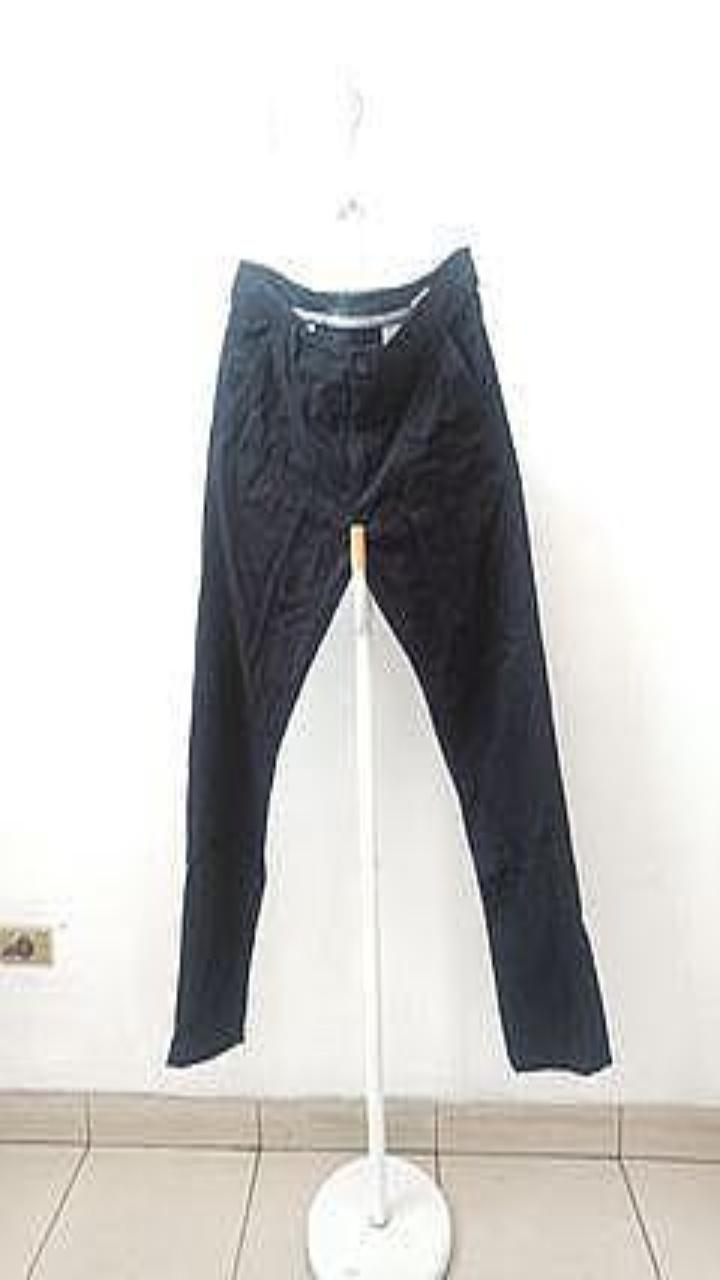Jeans: (166, 246, 610, 1073)
